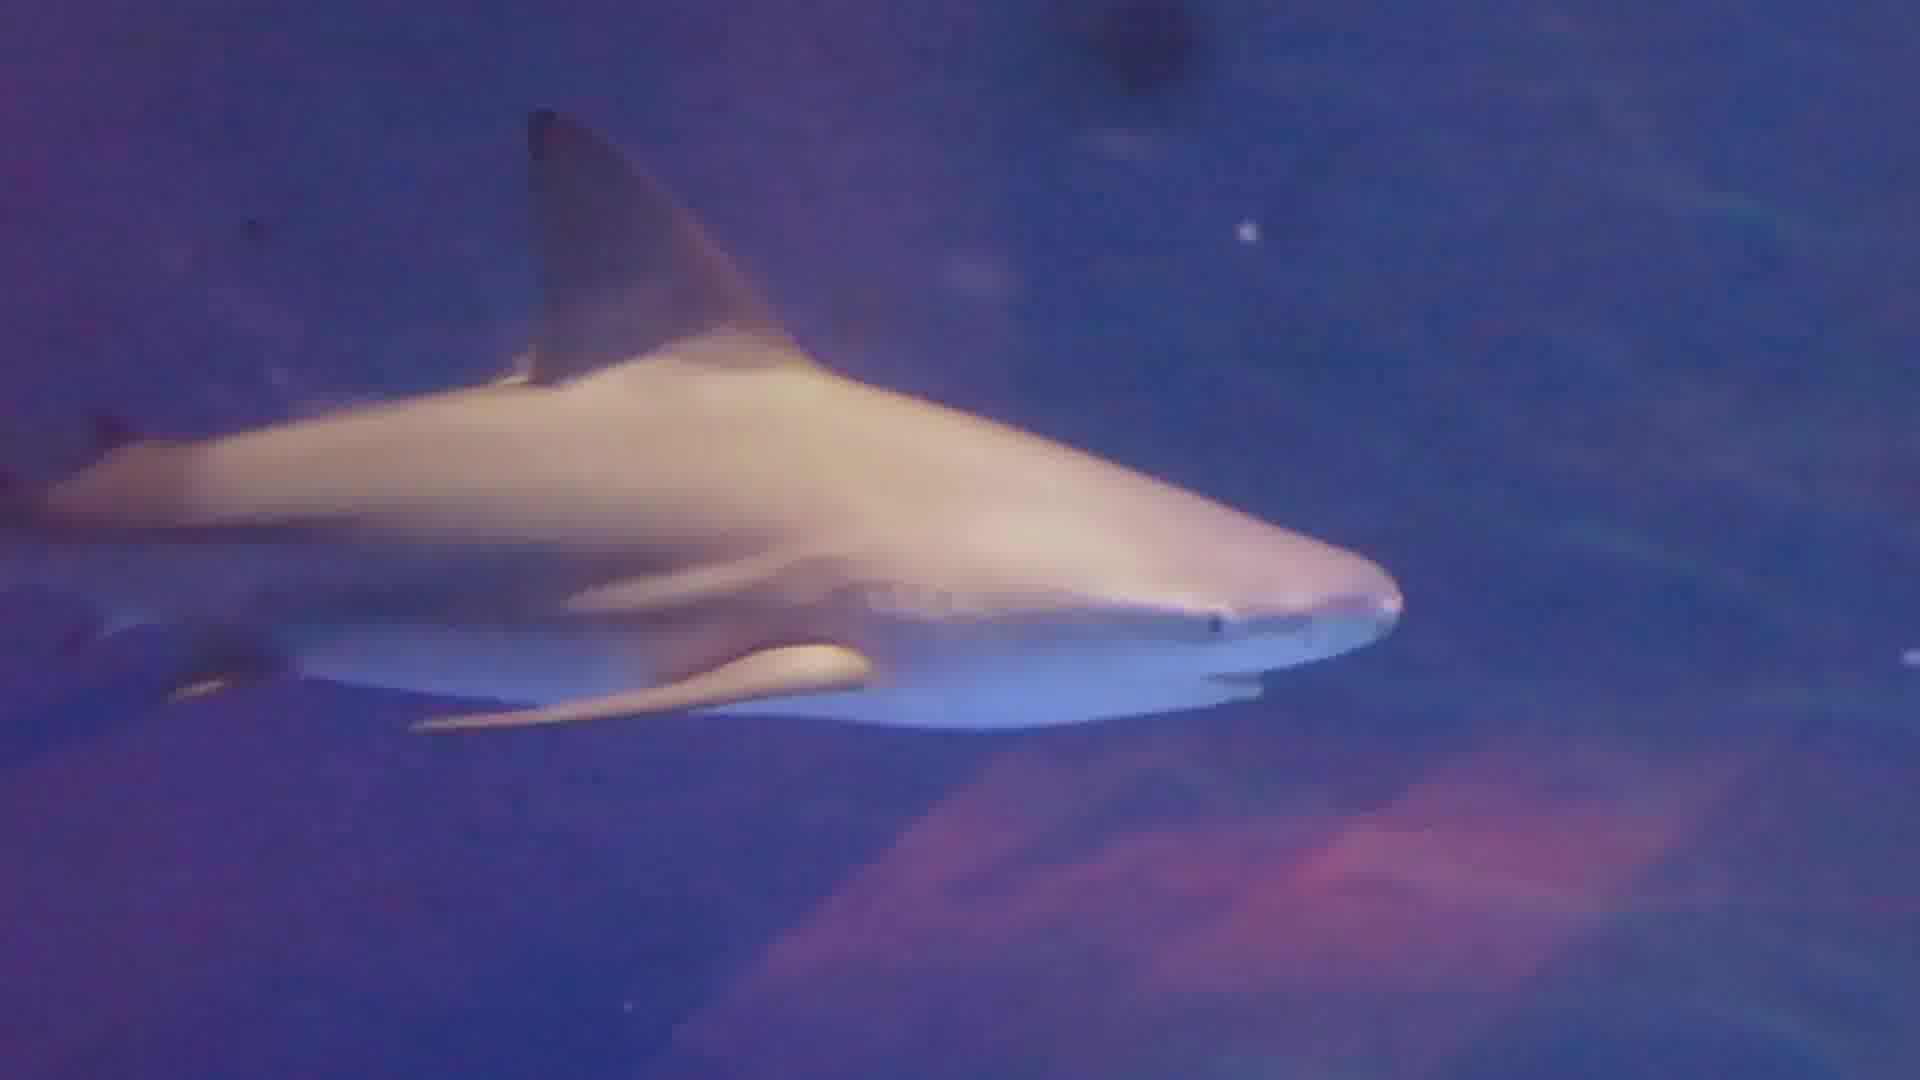Carcharhinus leucas: (1, 88, 1385, 796)
